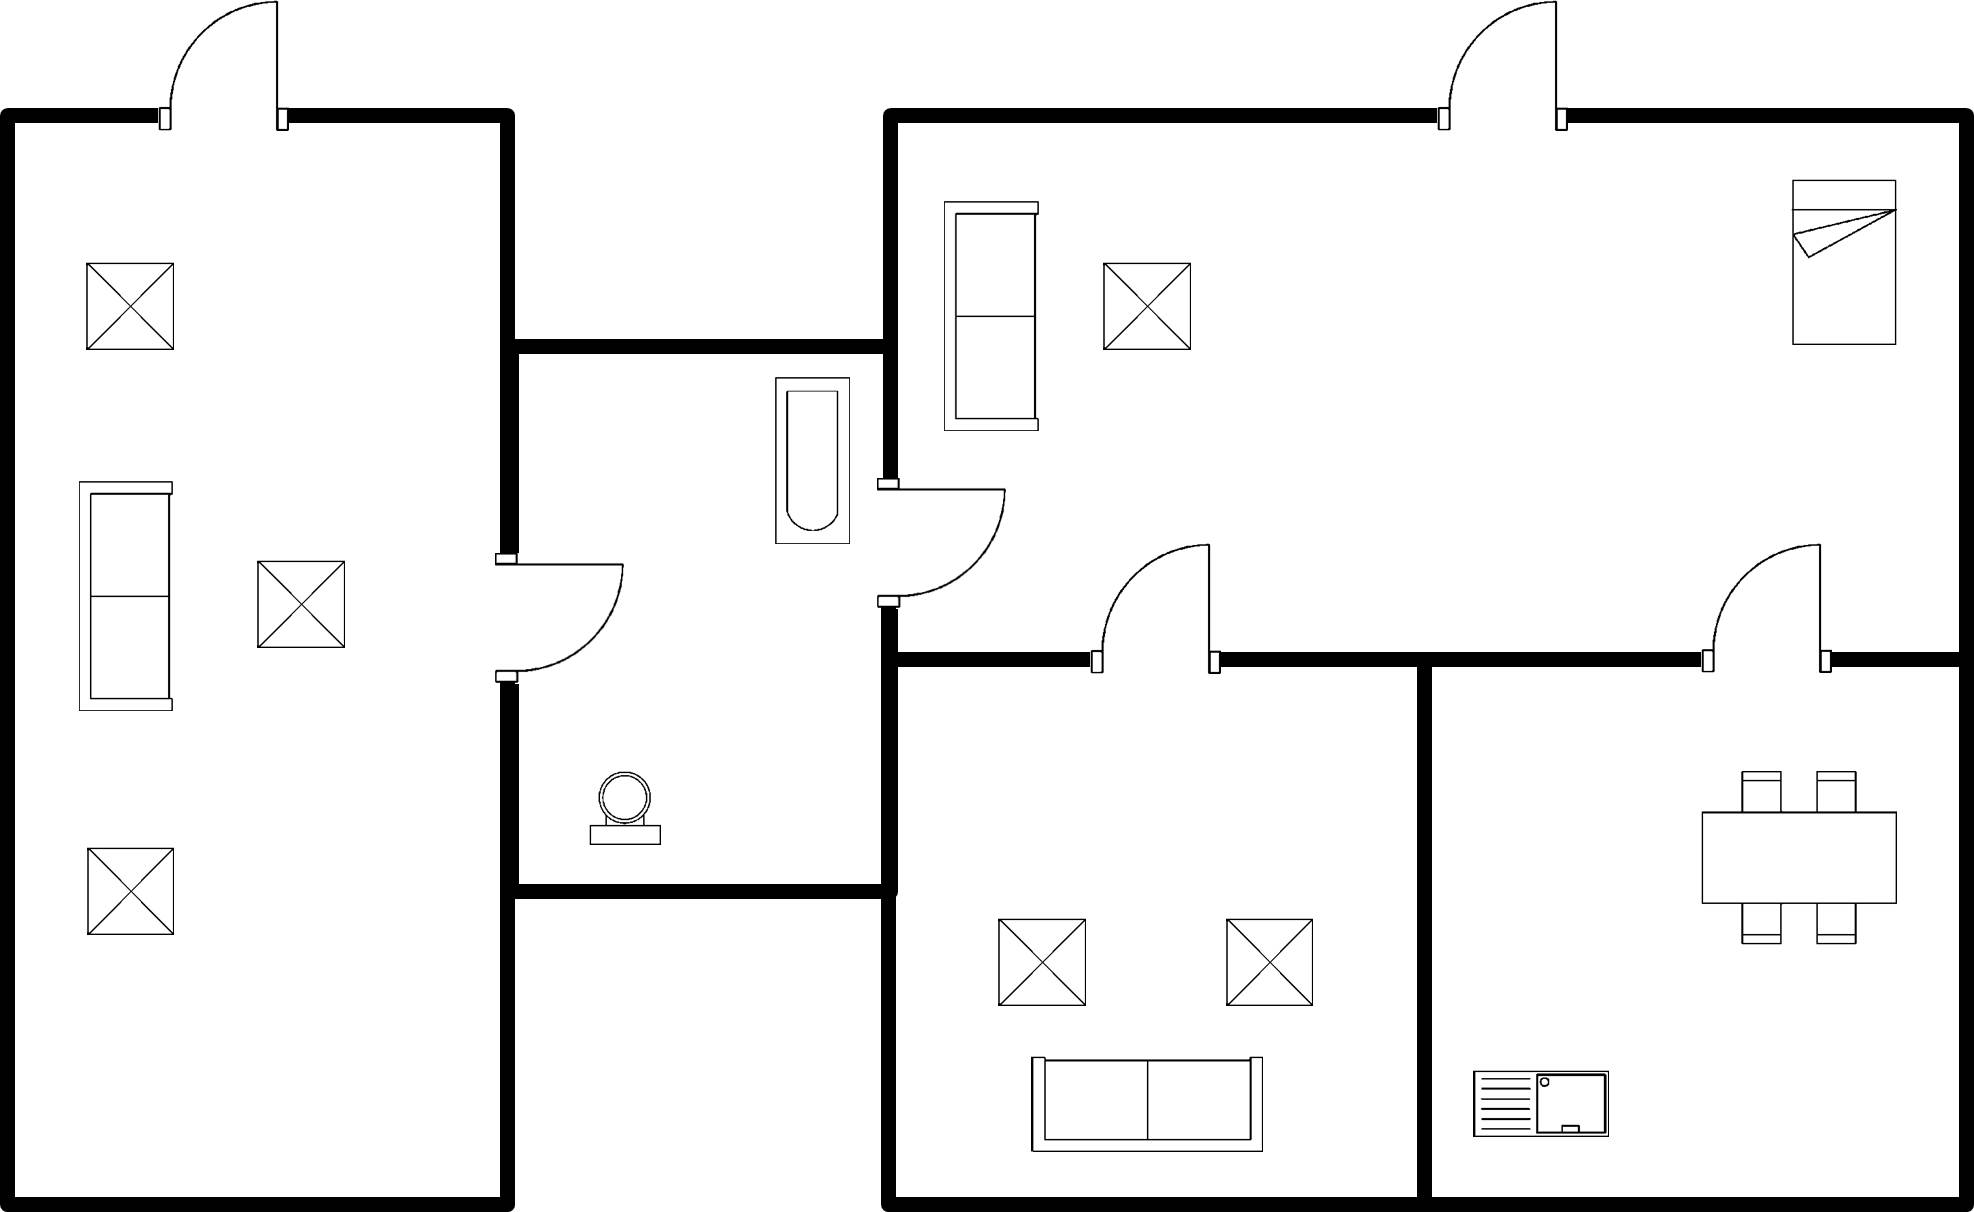bed: (1778, 172, 1909, 359)
coffee_table: (1090, 249, 1201, 365), (245, 551, 357, 664), (76, 252, 188, 362), (988, 904, 1095, 1017), (73, 835, 183, 944), (1216, 909, 1323, 1021)
dining_table: (1678, 758, 1909, 964)
large_sink: (574, 759, 673, 861)
large_sofa: (64, 461, 184, 731), (1018, 1048, 1281, 1162), (935, 189, 1052, 444)
sink: (1466, 1058, 1619, 1147)
tub: (763, 364, 864, 559)
